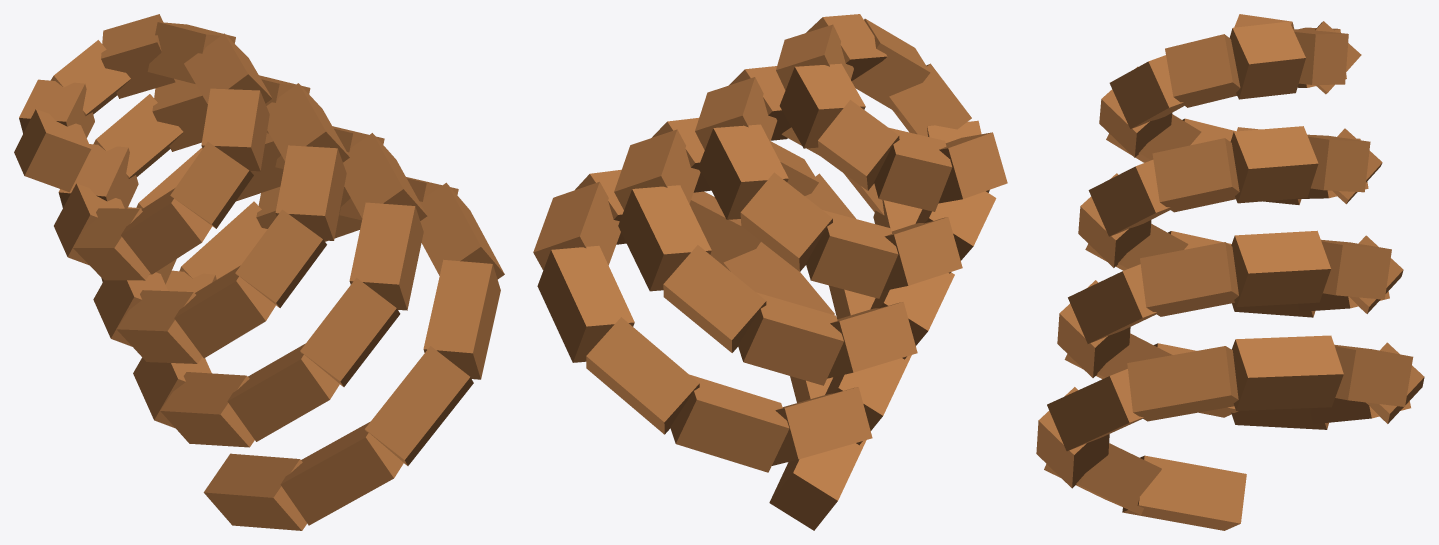
Rendered from shell_sable_c5.glb.
3 renders of one model, left to right at view 1: azimuth 30°, elevation 25°; view 2: azimuth 150°, elevation 25°; view 3: azimuth 270°, elevation 25°, orthographic. The views are drawn at different scales.
Visible parts, largest first — view 1: Pod; view 2: Pod; view 3: Pod.
Boxes of the visible parts, x1,y1,x2,y2 form: Pod: [14, 14, 504, 530]; Pod: [533, 14, 1007, 530]; Pod: [1036, 14, 1424, 530].
Bounding box in the file's own units: 0.2521 × 0.2718 × 0.1939.
